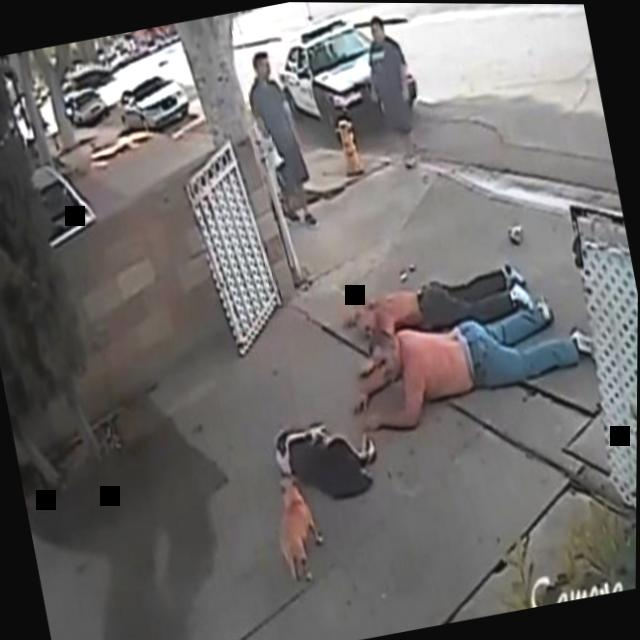Fall-Detected: (337, 237, 544, 353)
